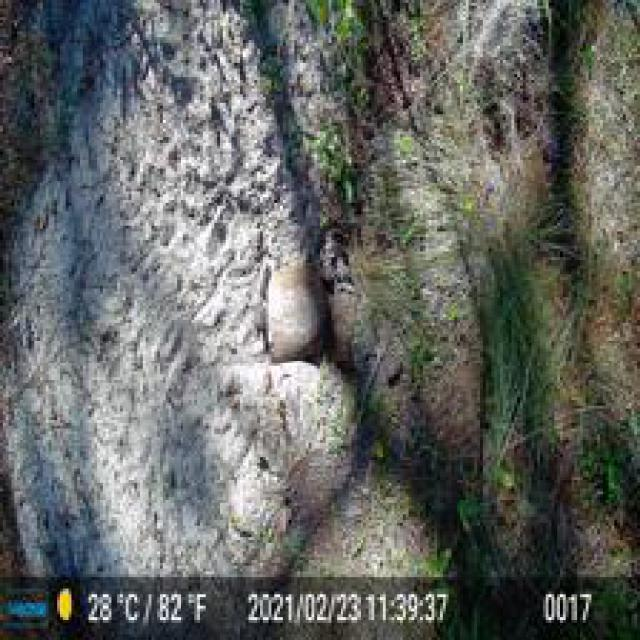tortoise: (260, 257, 326, 372)
